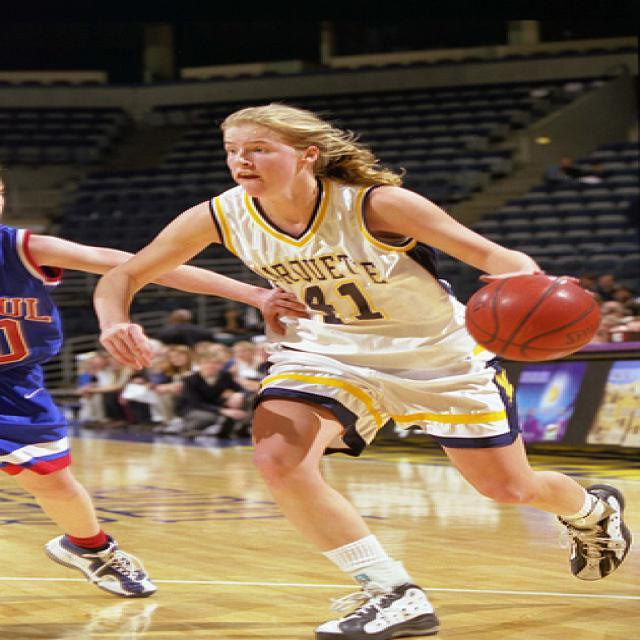basketball: (467, 271, 598, 367)
